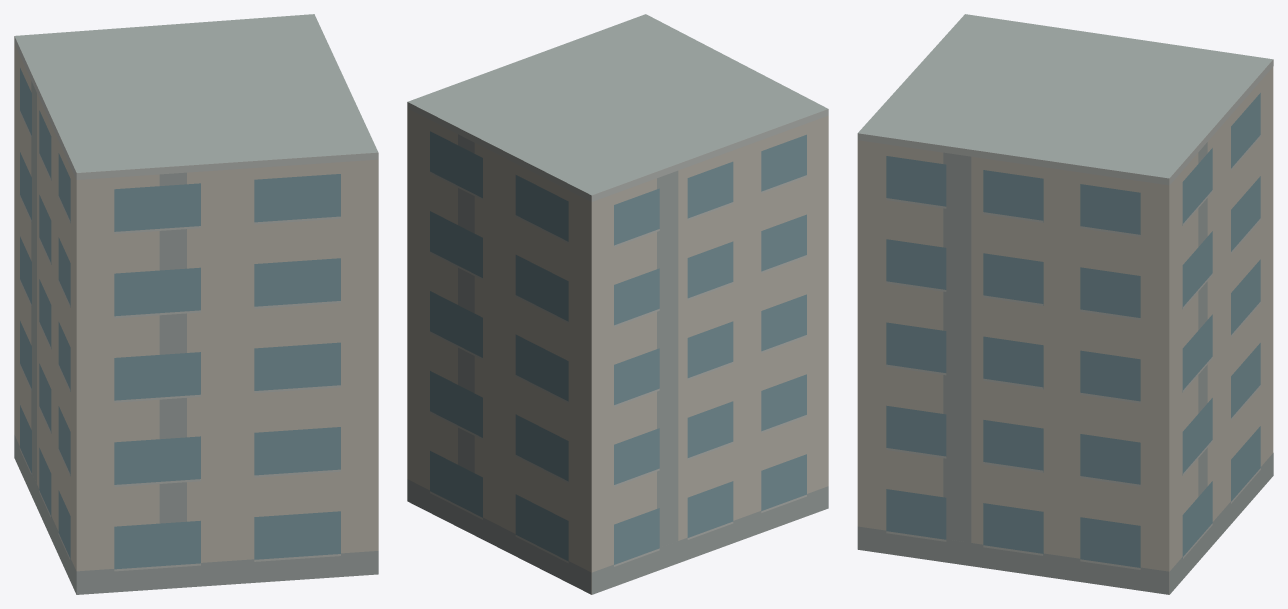
Rendered from survey-upis-32837017.glb.
3 views of the same model, side by side, from view 1: azimuth 30°, elevation 25°; view 2: azimuth 150°, elevation 25°; view 3: azimuth 270°, elevation 25° (orthographic). The views are drawn at different scales.
Parts seen in each view (by area): view 1: survey-upis-32837017.tmp; view 2: survey-upis-32837017.tmp; view 3: survey-upis-32837017.tmp.
Boxes of the visible parts, left/top/right/bottom form: survey-upis-32837017.tmp: left=14, top=14, right=378, bottom=594; survey-upis-32837017.tmp: left=407, top=14, right=828, bottom=594; survey-upis-32837017.tmp: left=857, top=14, right=1273, bottom=594.
Bounding box in the file's own units: 12.46 × 14.7 × 13.32.
